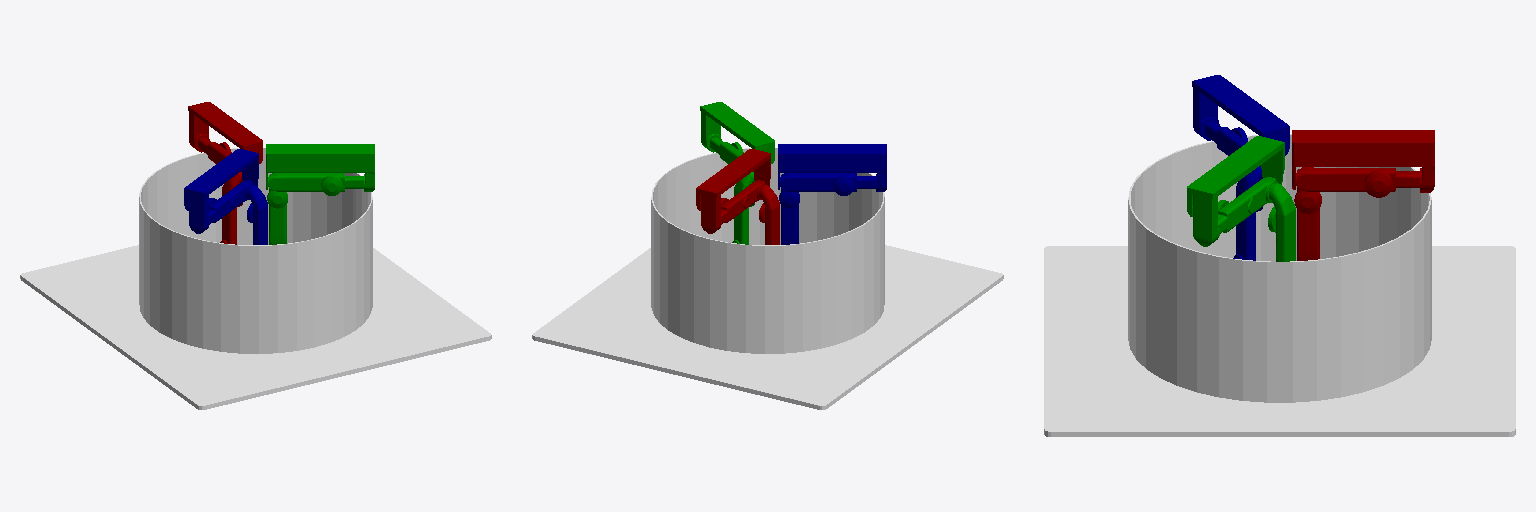
--- What the picture shows (computed from the rendered views, not written in the file) ---
3 views of the same robot in one strip: view 1: azimuth 30°, elevation 25°; view 2: azimuth 150°, elevation 25°; view 3: azimuth 270°, elevation 25° (orthographic).
Robot: trifingeredu_with_stage — 19 links, 18 joints (9 revolute, 9 fixed); root link base_link; default pose: all joints at 0.
Links seen in each view (by area): view 1: boundary_link, table_link, finger_base_link_120, finger_base_link_240, finger_base_link_0, finger_upper_link_120, finger_middle_link_240, finger_middle_link_120, finger_upper_link_240, finger_middle_link_0; view 2: boundary_link, table_link, finger_base_link_240, finger_base_link_0, finger_base_link_120, finger_upper_link_240, finger_middle_link_0, finger_middle_link_240, finger_upper_link_0, finger_middle_link_120; view 3: boundary_link, table_link, finger_base_link_0, finger_base_link_120, finger_base_link_240, finger_upper_link_0, finger_middle_link_120, finger_middle_link_0, finger_upper_link_120, finger_middle_link_240, finger_upper_link_240.
Boxes of the visible links, bbox=[...] form: boundary_link: bbox=[139, 148, 372, 353]; table_link: bbox=[20, 245, 491, 409]; finger_base_link_120: bbox=[266, 144, 374, 191]; finger_base_link_240: bbox=[184, 149, 258, 233]; finger_base_link_0: bbox=[188, 102, 262, 163]; finger_upper_link_120: bbox=[268, 173, 363, 195]; finger_middle_link_240: bbox=[247, 185, 267, 244]; finger_middle_link_120: bbox=[267, 190, 287, 244]; finger_upper_link_240: bbox=[209, 180, 253, 223]; finger_middle_link_0: bbox=[220, 172, 242, 244]; boundary_link: bbox=[651, 148, 884, 353]; table_link: bbox=[532, 245, 1003, 409]; finger_base_link_240: bbox=[778, 144, 886, 191]; finger_base_link_0: bbox=[696, 149, 770, 233]; finger_base_link_120: bbox=[700, 102, 774, 163]; finger_upper_link_240: bbox=[780, 173, 875, 195]; finger_middle_link_0: bbox=[759, 185, 779, 244]; finger_middle_link_240: bbox=[779, 190, 799, 244]; finger_upper_link_0: bbox=[721, 180, 765, 223]; finger_middle_link_120: bbox=[732, 172, 754, 244]; boundary_link: bbox=[1128, 134, 1431, 402]; table_link: bbox=[1044, 246, 1515, 436]; finger_base_link_0: bbox=[1292, 130, 1434, 192]; finger_base_link_120: bbox=[1187, 136, 1284, 246]; finger_base_link_240: bbox=[1192, 75, 1289, 155]; finger_upper_link_0: bbox=[1296, 167, 1419, 197]; finger_middle_link_120: bbox=[1268, 183, 1295, 261]; finger_middle_link_0: bbox=[1294, 190, 1321, 260]; finger_upper_link_120: bbox=[1218, 177, 1277, 233]; finger_middle_link_240: bbox=[1234, 166, 1262, 260]; finger_upper_link_240: bbox=[1205, 121, 1247, 155].
Size in the robot's own frame: 0.71 by 0.76 by 0.4095 metres.
Meshes: 9 distinct files referenced, 23 mesh visuals loaded (9 binary STL).

robot.urdf — trifingeredu_with_stage:
<?xml version="1.0" ?>
<!-- =================================================================================== -->
<!-- |    This document was autogenerated by xacro from robot_properties_fingers/xacro/edu/trifingeredu_with_stage.urdf.xacro | -->
<!-- |    EDITING THIS FILE BY HAND IS NOT RECOMMENDED                                 | -->
<!-- =================================================================================== -->
<robot name="trifingeredu_with_stage">
  <!--
    Frames are defined such that they all align with the base frame when all
    joints are at position zero.

    In zero-configuration the origins of all joints are in one line.
    -->
  <!-- Define the global base_link and place all other objects relative to it. -->
  <link name="base_link">
    <inertial>
      <origin rpy="0 0 0" xyz="0 0 0"/>
      <mass value="1"/>
      <inertia ixx="4.166666666666667e-06" ixy="0" ixz="0" iyy="4.166666666666667e-06" iyz="0" izz="4.166666666666667e-06"/>
    </inertial>
  </link>
  <!-- Define the upper holder -->
  <link name="trifinger_base_link">
    <inertial>
      <origin rpy="0 0 0" xyz="0 0 0"/>
      <mass value="1"/>
      <inertia ixx="4.166666666666667e-06" ixy="0" ixz="0" iyy="4.166666666666667e-06" iyz="0" izz="4.166666666666667e-06"/>
    </inertial>
  </link>
  <joint name="base_to_trifinger_base_joint" type="fixed">
    <parent link="base_link"/>
    <child link="trifinger_base_link"/>
    <origin rpy="0 0 -1.5707963267948966" xyz="0 0 0.283"/>
  </joint>
  <material name="fingeredu_0_material">
    <color rgba="0.6 0.0 0.0 1.0"/>
  </material>
  <material name="fingeredu_120_material">
    <color rgba="0.0 0.6 0.0 1.0"/>
  </material>
  <material name="fingeredu_240_material">
    <color rgba="0.0 0.0 0.6 1.0"/>
  </material>
  <!--
        Fixed links for the finger base (parts where the upper link is mounted).
        -->
  <link name="finger_base_link_0">
    <visual>
      <origin rpy="0 0 0" xyz="-0.17995 0 0"/>
      <geometry>
        <mesh filename="package://robot_properties_fingers/meshes/edu/base_back.stl" scale="1 1 1"/>
      </geometry>
      <material name="fingeredu_0_material"/>
    </visual>
    <collision>
      <origin rpy="0 0 0" xyz="-0.17995 0 0"/>
      <geometry>
        <mesh filename="package://robot_properties_fingers/meshes/edu/base_back.stl" scale="1 1 1"/>
      </geometry>
    </collision>
    <visual>
      <origin rpy="0 0 0" xyz="0.025500000000000002 0 0"/>
      <geometry>
        <mesh filename="package://robot_properties_fingers/meshes/edu/base_front.stl" scale="1 1 1"/>
      </geometry>
      <material name="fingeredu_0_material"/>
    </visual>
    <collision>
      <origin rpy="0 0 0" xyz="0.025500000000000002 0 0"/>
      <geometry>
        <mesh filename="package://robot_properties_fingers/meshes/edu/base_front.stl" scale="1 1 1"/>
      </geometry>
    </collision>
    <visual>
      <origin rpy="0 0 0" xyz="0.025500000000000002 0.02 0.08"/>
      <geometry>
        <mesh filename="package://robot_properties_fingers/meshes/edu/base_side_left.stl" scale="1 1 1"/>
      </geometry>
      <material name="fingeredu_0_material"/>
    </visual>
    <collision>
      <origin rpy="0 0 0" xyz="0.025500000000000002 0.02 0.08"/>
      <geometry>
        <mesh filename="package://robot_properties_fingers/meshes/edu/base_side_left.stl" scale="1 1 1"/>
      </geometry>
    </collision>
    <!-- Disable this part.  It is not very relevant for collisions but
                 would cause trouble in pybullet due to its concavity.
            <xacro:add_geometry
                rpy="0 0 0"
                xyz="${offset_x_base_to_front} -0.02 ${offset_z_base_to_top}"
                mesh_file="${mesh_dir}/base_side_right.stl"
                material="${material}" />
            -->
    <visual>
      <origin rpy="0 0 0" xyz="0.025500000000000002 0 0.08"/>
      <geometry>
        <mesh filename="package://robot_properties_fingers/meshes/edu/base_top.stl" scale="1 1 1"/>
      </geometry>
      <material name="fingeredu_0_material"/>
    </visual>
    <collision>
      <origin rpy="0 0 0" xyz="0.025500000000000002 0 0.08"/>
      <geometry>
        <mesh filename="package://robot_properties_fingers/meshes/edu/base_top.stl" scale="1 1 1"/>
      </geometry>
    </collision>
    <inertial>
      <origin rpy="0 0 0" xyz="-0.1 0 0.4"/>
      <mass value="1"/>
      <inertia ixx="0.060833333333333336" ixy="0" ixz="0" iyy="0.05666666666666668" iyz="0" izz="0.010833333333333334"/>
    </inertial>
  </link>
  <!-- The movable links (upper, middle and lower) of the finger. -->
  <!-- FIXOLD inertias are not correct! -->
  <link name="finger_upper_link_0">
    <visual>
      <origin rpy="0 0 0" xyz="0.0195 0 0"/>
      <geometry>
        <mesh filename="package://robot_properties_fingers/meshes/edu/upper_link.stl" scale="1 1 1"/>
      </geometry>
      <material name="fingeredu_0_material"/>
    </visual>
    <collision>
      <origin rpy="0 0 0" xyz="0.0195 0 0"/>
      <geometry>
        <mesh filename="package://robot_properties_fingers/meshes/edu/upper_link.stl" scale="1 1 1"/>
      </geometry>
    </collision>
    <inertial>
      <!-- Note: This uses the values from the middle link, assuming
                     that it is similar enough. -->
      <!-- CoM is only estimated based -->
      <origin rpy="0 0 0" xyz="-0.079 0 0"/>
      <mass value="0.14854"/>
      <inertia ixx="0.00003" ixy="0.00005" ixz="0.00000" iyy="0.00041" iyz="0.00000" izz="0.00041"/>
    </inertial>
  </link>
  <link name="finger_middle_link_0">
    <visual>
      <origin rpy="0 0 0" xyz="0 0 0"/>
      <geometry>
        <mesh filename="package://robot_properties_fingers/meshes/edu/middle_link.stl" scale="1 1 1"/>
      </geometry>
      <material name="fingeredu_0_material"/>
    </visual>
    <collision>
      <origin rpy="0 0 0" xyz="0 0 0"/>
      <geometry>
        <mesh filename="package://robot_properties_fingers/meshes/edu/middle_link.stl" scale="1 1 1"/>
      </geometry>
    </collision>
    <inertial>
      <origin rpy="0 0 0" xyz="0 -0.019 -0.079"/>
      <mass value="0.14854"/>
      <inertia ixx="0.00041" ixy="0.00000" ixz="0.00000" iyy="0.00041" iyz="0.00005" izz="0.00003"/>
    </inertial>
  </link>
  <link name="finger_lower_link_0">
    <visual>
      <origin rpy="0 0 0" xyz="0 0 0"/>
      <geometry>
        <mesh filename="package://robot_properties_fingers/meshes/edu/lower_link.stl" scale="1 1 1"/>
      </geometry>
      <material name="fingeredu_0_material"/>
    </visual>
    <collision>
      <origin rpy="0 0 0" xyz="0 0 0"/>
      <geometry>
        <mesh filename="package://robot_properties_fingers/meshes/edu/lower_link.stl" scale="1 1 1"/>
      </geometry>
    </collision>
    <!-- TODO: these are the interial values from the Solo lower leg
                 link which is similar but not exactly the same to the FingerEdu
                 lower link. -->
    <inertial>
      <origin rpy="0 0 0" xyz="0 -0.009 -0.089"/>
      <mass value="0.03070"/>
      <inertia ixx="0.00012" ixy="0.00000" ixz="0.00000" iyy="0.00012" iyz="0.00000" izz="0.00000"/>
    </inertial>
  </link>
  <!-- fixed link for finger tip -->
  <link name="finger_tip_link_0">
    <inertial>
      <origin rpy="0 0 0" xyz="0 0 0"/>
      <mass value="0.01"/>
      <inertia ixx="1.6666666666666668e-07" ixy="0" ixz="0" iyy="1.6666666666666668e-07" iyz="0" izz="1.6666666666666668e-07"/>
    </inertial>
  </link>
  <joint name="finger_lower_to_tip_joint_0" type="fixed">
    <parent link="finger_lower_link_0"/>
    <child link="finger_tip_link_0"/>
    <origin xyz="0 -0.008 -0.16"/>
  </joint>
  <!-- kinematics -->
  <joint name="finger_base_to_upper_joint_0" type="revolute">
    <parent link="finger_base_link_0"/>
    <child link="finger_upper_link_0"/>
    <limit effort="1000" lower="-1.5707963267948966" upper="1.5707963267948966" velocity="1000"/>
    <axis xyz="-1 0 0"/>
    <origin rpy="0 0 0" xyz="0 0 0"/>
  </joint>
  <joint name="finger_upper_to_middle_joint_0" type="revolute">
    <parent link="finger_upper_link_0"/>
    <child link="finger_middle_link_0"/>
    <limit effort="1000" lower="-1.5707963267948966" upper="1.5707963267948966" velocity="1000"/>
    <axis xyz="0 1 0"/>
    <origin rpy="0 0 0" xyz="0 -0.014 0"/>
  </joint>
  <joint name="finger_middle_to_lower_joint_0" type="revolute">
    <parent link="finger_middle_link_0"/>
    <child link="finger_lower_link_0"/>
    <limit effort="1000" lower="-3.141592653589793" upper="3.141592653589793" velocity="1000"/>
    <axis xyz="0 1 0"/>
    <origin rpy="0 0 0" xyz="0 -0.03745 -0.16"/>
  </joint>
  <!--
        Fixed links for the finger base (parts where the upper link is mounted).
        -->
  <link name="finger_base_link_120">
    <visual>
      <origin rpy="0 0 0" xyz="-0.17995 0 0"/>
      <geometry>
        <mesh filename="package://robot_properties_fingers/meshes/edu/base_back.stl" scale="1 1 1"/>
      </geometry>
      <material name="fingeredu_120_material"/>
    </visual>
    <collision>
      <origin rpy="0 0 0" xyz="-0.17995 0 0"/>
      <geometry>
        <mesh filename="package://robot_properties_fingers/meshes/edu/base_back.stl" scale="1 1 1"/>
      </geometry>
    </collision>
    <visual>
      <origin rpy="0 0 0" xyz="0.025500000000000002 0 0"/>
      <geometry>
        <mesh filename="package://robot_properties_fingers/meshes/edu/base_front.stl" scale="1 1 1"/>
      </geometry>
      <material name="fingeredu_120_material"/>
    </visual>
    <collision>
      <origin rpy="0 0 0" xyz="0.025500000000000002 0 0"/>
      <geometry>
        <mesh filename="package://robot_properties_fingers/meshes/edu/base_front.stl" scale="1 1 1"/>
      </geometry>
    </collision>
    <visual>
      <origin rpy="0 0 0" xyz="0.025500000000000002 0.02 0.08"/>
      <geometry>
        <mesh filename="package://robot_properties_fingers/meshes/edu/base_side_left.stl" scale="1 1 1"/>
      </geometry>
      <material name="fingeredu_120_material"/>
    </visual>
    <collision>
      <origin rpy="0 0 0" xyz="0.025500000000000002 0.02 0.08"/>
      <geometry>
        <mesh filename="package://robot_properties_fingers/meshes/edu/base_side_left.stl" scale="1 1 1"/>
      </geometry>
    </collision>
    <!-- Disable this part.  It is not very relevant for collisions but
                 would cause trouble in pybullet due to its concavity.
            <xacro:add_geometry
                rpy="0 0 0"
                xyz="${offset_x_base_to_front} -0.02 ${offset_z_base_to_top}"
                mesh_file="${mesh_dir}/base_side_right.stl"
                material="${material}" />
            -->
    <visual>
      <origin rpy="0 0 0" xyz="0.025500000000000002 0 0.08"/>
      <geometry>
        <mesh filename="package://robot_properties_fingers/meshes/edu/base_top.stl" scale="1 1 1"/>
      </geometry>
      <material name="fingeredu_120_material"/>
    </visual>
    <collision>
      <origin rpy="0 0 0" xyz="0.025500000000000002 0 0.08"/>
      <geometry>
        <mesh filename="package://robot_properties_fingers/meshes/edu/base_top.stl" scale="1 1 1"/>
      </geometry>
    </collision>
    <inertial>
      <origin rpy="0 0 0" xyz="-0.1 0 0.4"/>
      <mass value="1"/>
      <inertia ixx="0.060833333333333336" ixy="0" ixz="0" iyy="0.05666666666666668" iyz="0" izz="0.010833333333333334"/>
    </inertial>
  </link>
  <!-- The movable links (upper, middle and lower) of the finger. -->
  <!-- FIXOLD inertias are not correct! -->
  <link name="finger_upper_link_120">
    <visual>
      <origin rpy="0 0 0" xyz="0.0195 0 0"/>
      <geometry>
        <mesh filename="package://robot_properties_fingers/meshes/edu/upper_link.stl" scale="1 1 1"/>
      </geometry>
      <material name="fingeredu_120_material"/>
    </visual>
    <collision>
      <origin rpy="0 0 0" xyz="0.0195 0 0"/>
      <geometry>
        <mesh filename="package://robot_properties_fingers/meshes/edu/upper_link.stl" scale="1 1 1"/>
      </geometry>
    </collision>
    <inertial>
      <!-- Note: This uses the values from the middle link, assuming
                     that it is similar enough. -->
      <!-- CoM is only estimated based -->
      <origin rpy="0 0 0" xyz="-0.079 0 0"/>
      <mass value="0.14854"/>
      <inertia ixx="0.00003" ixy="0.00005" ixz="0.00000" iyy="0.00041" iyz="0.00000" izz="0.00041"/>
    </inertial>
  </link>
  <link name="finger_middle_link_120">
    <visual>
      <origin rpy="0 0 0" xyz="0 0 0"/>
      <geometry>
        <mesh filename="package://robot_properties_fingers/meshes/edu/middle_link.stl" scale="1 1 1"/>
      </geometry>
      <material name="fingeredu_120_material"/>
    </visual>
    <collision>
      <origin rpy="0 0 0" xyz="0 0 0"/>
      <geometry>
        <mesh filename="package://robot_properties_fingers/meshes/edu/middle_link.stl" scale="1 1 1"/>
      </geometry>
    </collision>
    <inertial>
      <origin rpy="0 0 0" xyz="0 -0.019 -0.079"/>
      <mass value="0.14854"/>
      <inertia ixx="0.00041" ixy="0.00000" ixz="0.00000" iyy="0.00041" iyz="0.00005" izz="0.00003"/>
    </inertial>
  </link>
  <link name="finger_lower_link_120">
    <visual>
      <origin rpy="0 0 0" xyz="0 0 0"/>
      <geometry>
        <mesh filename="package://robot_properties_fingers/meshes/edu/lower_link.stl" scale="1 1 1"/>
      </geometry>
      <material name="fingeredu_120_material"/>
    </visual>
    <collision>
      <origin rpy="0 0 0" xyz="0 0 0"/>
      <geometry>
        <mesh filename="package://robot_properties_fingers/meshes/edu/lower_link.stl" scale="1 1 1"/>
      </geometry>
    </collision>
    <!-- TODO: these are the interial values from the Solo lower leg
                 link which is similar but not exactly the same to the FingerEdu
                 lower link. -->
    <inertial>
      <origin rpy="0 0 0" xyz="0 -0.009 -0.089"/>
      <mass value="0.03070"/>
      <inertia ixx="0.00012" ixy="0.00000" ixz="0.00000" iyy="0.00012" iyz="0.00000" izz="0.00000"/>
    </inertial>
  </link>
  <!-- fixed link for finger tip -->
  <link name="finger_tip_link_120">
    <inertial>
      <origin rpy="0 0 0" xyz="0 0 0"/>
      <mass value="0.01"/>
      <inertia ixx="1.6666666666666668e-07" ixy="0" ixz="0" iyy="1.6666666666666668e-07" iyz="0" izz="1.6666666666666668e-07"/>
    </inertial>
  </link>
  <joint name="finger_lower_to_tip_joint_120" type="fixed">
    <parent link="finger_lower_link_120"/>
    <child link="finger_tip_link_120"/>
    <origin xyz="0 -0.008 -0.16"/>
  </joint>
  <!-- kinematics -->
  <joint name="finger_base_to_upper_joint_120" type="revolute">
    <parent link="finger_base_link_120"/>
    <child link="finger_upper_link_120"/>
    <limit effort="1000" lower="-1.5707963267948966" upper="1.5707963267948966" velocity="1000"/>
    <axis xyz="-1 0 0"/>
    <origin rpy="0 0 0" xyz="0 0 0"/>
  </joint>
  <joint name="finger_upper_to_middle_joint_120" type="revolute">
    <parent link="finger_upper_link_120"/>
    <child link="finger_middle_link_120"/>
    <limit effort="1000" lower="-1.5707963267948966" upper="1.5707963267948966" velocity="1000"/>
    <axis xyz="0 1 0"/>
    <origin rpy="0 0 0" xyz="0 -0.014 0"/>
  </joint>
  <joint name="finger_middle_to_lower_joint_120" type="revolute">
    <parent link="finger_middle_link_120"/>
    <child link="finger_lower_link_120"/>
    <limit effort="1000" lower="-3.141592653589793" upper="3.141592653589793" velocity="1000"/>
    <axis xyz="0 1 0"/>
    <origin rpy="0 0 0" xyz="0 -0.03745 -0.16"/>
  </joint>
  <!--
        Fixed links for the finger base (parts where the upper link is mounted).
        -->
  <link name="finger_base_link_240">
    <visual>
      <origin rpy="0 0 0" xyz="-0.17995 0 0"/>
      <geometry>
        <mesh filename="package://robot_properties_fingers/meshes/edu/base_back.stl" scale="1 1 1"/>
      </geometry>
      <material name="fingeredu_240_material"/>
    </visual>
    <collision>
      <origin rpy="0 0 0" xyz="-0.17995 0 0"/>
      <geometry>
        <mesh filename="package://robot_properties_fingers/meshes/edu/base_back.stl" scale="1 1 1"/>
      </geometry>
    </collision>
    <visual>
      <origin rpy="0 0 0" xyz="0.025500000000000002 0 0"/>
      <geometry>
        <mesh filename="package://robot_properties_fingers/meshes/edu/base_front.stl" scale="1 1 1"/>
      </geometry>
      <material name="fingeredu_240_material"/>
    </visual>
    <collision>
      <origin rpy="0 0 0" xyz="0.025500000000000002 0 0"/>
      <geometry>
        <mesh filename="package://robot_properties_fingers/meshes/edu/base_front.stl" scale="1 1 1"/>
      </geometry>
    </collision>
    <visual>
      <origin rpy="0 0 0" xyz="0.025500000000000002 0.02 0.08"/>
      <geometry>
        <mesh filename="package://robot_properties_fingers/meshes/edu/base_side_left.stl" scale="1 1 1"/>
      </geometry>
      <material name="fingeredu_240_material"/>
    </visual>
    <collision>
      <origin rpy="0 0 0" xyz="0.025500000000000002 0.02 0.08"/>
      <geometry>
        <mesh filename="package://robot_properties_fingers/meshes/edu/base_side_left.stl" scale="1 1 1"/>
      </geometry>
    </collision>
    <!-- Disable this part.  It is not very relevant for collisions but
                 would cause trouble in pybullet due to its concavity.
            <xacro:add_geometry
                rpy="0 0 0"
                xyz="${offset_x_base_to_front} -0.02 ${offset_z_base_to_top}"
                mesh_file="${mesh_dir}/base_side_right.stl"
                material="${material}" />
            -->
    <visual>
      <origin rpy="0 0 0" xyz="0.025500000000000002 0 0.08"/>
      <geometry>
        <mesh filename="package://robot_properties_fingers/meshes/edu/base_top.stl" scale="1 1 1"/>
      </geometry>
      <material name="fingeredu_240_material"/>
    </visual>
    <collision>
      <origin rpy="0 0 0" xyz="0.025500000000000002 0 0.08"/>
      <geometry>
        <mesh filename="package://robot_properties_fingers/meshes/edu/base_top.stl" scale="1 1 1"/>
      </geometry>
    </collision>
    <inertial>
      <origin rpy="0 0 0" xyz="-0.1 0 0.4"/>
      <mass value="1"/>
      <inertia ixx="0.060833333333333336" ixy="0" ixz="0" iyy="0.05666666666666668" iyz="0" izz="0.010833333333333334"/>
    </inertial>
  </link>
  <!-- The movable links (upper, middle and lower) of the finger. -->
  <!-- FIXOLD inertias are not correct! -->
  <link name="finger_upper_link_240">
    <visual>
      <origin rpy="0 0 0" xyz="0.0195 0 0"/>
      <geometry>
        <mesh filename="package://robot_properties_fingers/meshes/edu/upper_link.stl" scale="1 1 1"/>
      </geometry>
      <material name="fingeredu_240_material"/>
    </visual>
    <collision>
      <origin rpy="0 0 0" xyz="0.0195 0 0"/>
      <geometry>
        <mesh filename="package://robot_properties_fingers/meshes/edu/upper_link.stl" scale="1 1 1"/>
      </geometry>
    </collision>
    <inertial>
      <!-- Note: This uses the values from the middle link, assuming
                     that it is similar enough. -->
      <!-- CoM is only estimated based -->
      <origin rpy="0 0 0" xyz="-0.079 0 0"/>
      <mass value="0.14854"/>
      <inertia ixx="0.00003" ixy="0.00005" ixz="0.00000" iyy="0.00041" iyz="0.00000" izz="0.00041"/>
    </inertial>
  </link>
  <link name="finger_middle_link_240">
    <visual>
      <origin rpy="0 0 0" xyz="0 0 0"/>
      <geometry>
        <mesh filename="package://robot_properties_fingers/meshes/edu/middle_link.stl" scale="1 1 1"/>
      </geometry>
      <material name="fingeredu_240_material"/>
    </visual>
    <collision>
      <origin rpy="0 0 0" xyz="0 0 0"/>
      <geometry>
        <mesh filename="package://robot_properties_fingers/meshes/edu/middle_link.stl" scale="1 1 1"/>
      </geometry>
    </collision>
    <inertial>
      <origin rpy="0 0 0" xyz="0 -0.019 -0.079"/>
      <mass value="0.14854"/>
      <inertia ixx="0.00041" ixy="0.00000" ixz="0.00000" iyy="0.00041" iyz="0.00005" izz="0.00003"/>
    </inertial>
  </link>
  <link name="finger_lower_link_240">
    <visual>
      <origin rpy="0 0 0" xyz="0 0 0"/>
      <geometry>
        <mesh filename="package://robot_properties_fingers/meshes/edu/lower_link.stl" scale="1 1 1"/>
      </geometry>
      <material name="fingeredu_240_material"/>
    </visual>
    <collision>
      <origin rpy="0 0 0" xyz="0 0 0"/>
      <geometry>
        <mesh filename="package://robot_properties_fingers/meshes/edu/lower_link.stl" scale="1 1 1"/>
      </geometry>
    </collision>
    <!-- TODO: these are the interial values from the Solo lower leg
                 link which is similar but not exactly the same to the FingerEdu
                 lower link. -->
    <inertial>
      <origin rpy="0 0 0" xyz="0 -0.009 -0.089"/>
      <mass value="0.03070"/>
      <inertia ixx="0.00012" ixy="0.00000" ixz="0.00000" iyy="0.00012" iyz="0.00000" izz="0.00000"/>
    </inertial>
  </link>
  <!-- fixed link for finger tip -->
  <link name="finger_tip_link_240">
    <inertial>
      <origin rpy="0 0 0" xyz="0 0 0"/>
      <mass value="0.01"/>
      <inertia ixx="1.6666666666666668e-07" ixy="0" ixz="0" iyy="1.6666666666666668e-07" iyz="0" izz="1.6666666666666668e-07"/>
    </inertial>
  </link>
  <joint name="finger_lower_to_tip_joint_240" type="fixed">
    <parent link="finger_lower_link_240"/>
    <child link="finger_tip_link_240"/>
    <origin xyz="0 -0.008 -0.16"/>
  </joint>
  <!-- kinematics -->
  <joint name="finger_base_to_upper_joint_240" type="revolute">
    <parent link="finger_base_link_240"/>
    <child link="finger_upper_link_240"/>
    <limit effort="1000" lower="-1.5707963267948966" upper="1.5707963267948966" velocity="1000"/>
    <axis xyz="-1 0 0"/>
    <origin rpy="0 0 0" xyz="0 0 0"/>
  </joint>
  <joint name="finger_upper_to_middle_joint_240" type="revolute">
    <parent link="finger_upper_link_240"/>
    <child link="finger_middle_link_240"/>
    <limit effort="1000" lower="-1.5707963267948966" upper="1.5707963267948966" velocity="1000"/>
    <axis xyz="0 1 0"/>
    <origin rpy="0 0 0" xyz="0 -0.014 0"/>
  </joint>
  <joint name="finger_middle_to_lower_joint_240" type="revolute">
    <parent link="finger_middle_link_240"/>
    <child link="finger_lower_link_240"/>
    <limit effort="1000" lower="-3.141592653589793" upper="3.141592653589793" velocity="1000"/>
    <axis xyz="0 1 0"/>
    <origin rpy="0 0 0" xyz="0 -0.03745 -0.16"/>
  </joint>
  <joint name="base_to_finger_0" type="fixed">
    <parent link="trifinger_base_link"/>
    <child link="finger_base_link_0"/>
    <origin rpy="0 0 0" xyz="-0.0455 0.0 0"/>
  </joint>
  <joint name="base_to_finger_120" type="fixed">
    <parent link="trifinger_base_link"/>
    <child link="finger_base_link_120"/>
    <origin rpy="0 0 -2.0943951023931953" xyz="0.02274999999999999 0.03940415587219196 0"/>
  </joint>
  <joint name="base_to_finger_240" type="fixed">
    <parent link="trifinger_base_link"/>
    <child link="finger_base_link_240"/>
    <origin rpy="0 0 -4.1887902047863905" xyz="0.02275000000000002 -0.03940415587219195 0"/>
  </joint>
  <material name="boundary_material">
    <color rgba="0.95 0.95 0.95 1.0"/>
  </material>
  <link name="table_link">
    <visual>
      <origin rpy="0 0 0" xyz="0 0 0"/>
      <geometry>
        <mesh filename="package://robot_properties_fingers/meshes/stl/trifinger_table_without_border.stl" scale="1 1 1"/>
      </geometry>
      <material name="boundary_material"/>
    </visual>
    <collision>
      <origin rpy="0 0 0" xyz="0 0 0"/>
      <geometry>
        <mesh filename="package://robot_properties_fingers/meshes/stl/trifinger_table_without_border.stl" scale="1 1 1"/>
      </geometry>
    </collision>
    <inertial>
      <origin rpy="0 0 0" xyz="0 0 0"/>
      <mass value="2"/>
      <inertia ixx="0.09628333333333333" ixy="0" ixz="0" iyy="0.08403333333333332" iyz="0" izz="0.18028333333333335"/>
    </inertial>
  </link>
  <link name="boundary_link">
    <visual>
      <origin rpy="0 0 0" xyz="0 0 0"/>
      <geometry>
        <mesh filename="package://robot_properties_fingers/meshes/stl/edu/frame_wall.stl" scale="1 1 1"/>
      </geometry>
      <material name="boundary_material"/>
    </visual>
    <collision>
      <origin rpy="0 0 0" xyz="0 0 0"/>
      <geometry>
        <mesh filename="package://robot_properties_fingers/meshes/stl/edu/frame_wall.stl" scale="1 1 1"/>
      </geometry>
    </collision>
    <inertial>
      <origin rpy="0 0 0" xyz="0 0 0"/>
      <mass value="2"/>
      <inertia ixx="0.05708333333333333" ixy="0" ixz="0" iyy="0.05708333333333333" iyz="0" izz="0.10453333333333334"/>
    </inertial>
  </link>
  <joint name="base_to_table" type="fixed">
    <parent link="base_link"/>
    <child link="table_link"/>
    <origin xyz="0 0 0"/>
  </joint>
  <joint name="table_to_boundary" type="fixed">
    <parent link="table_link"/>
    <child link="boundary_link"/>
    <origin xyz="0 0 0"/>
  </joint>
</robot>
